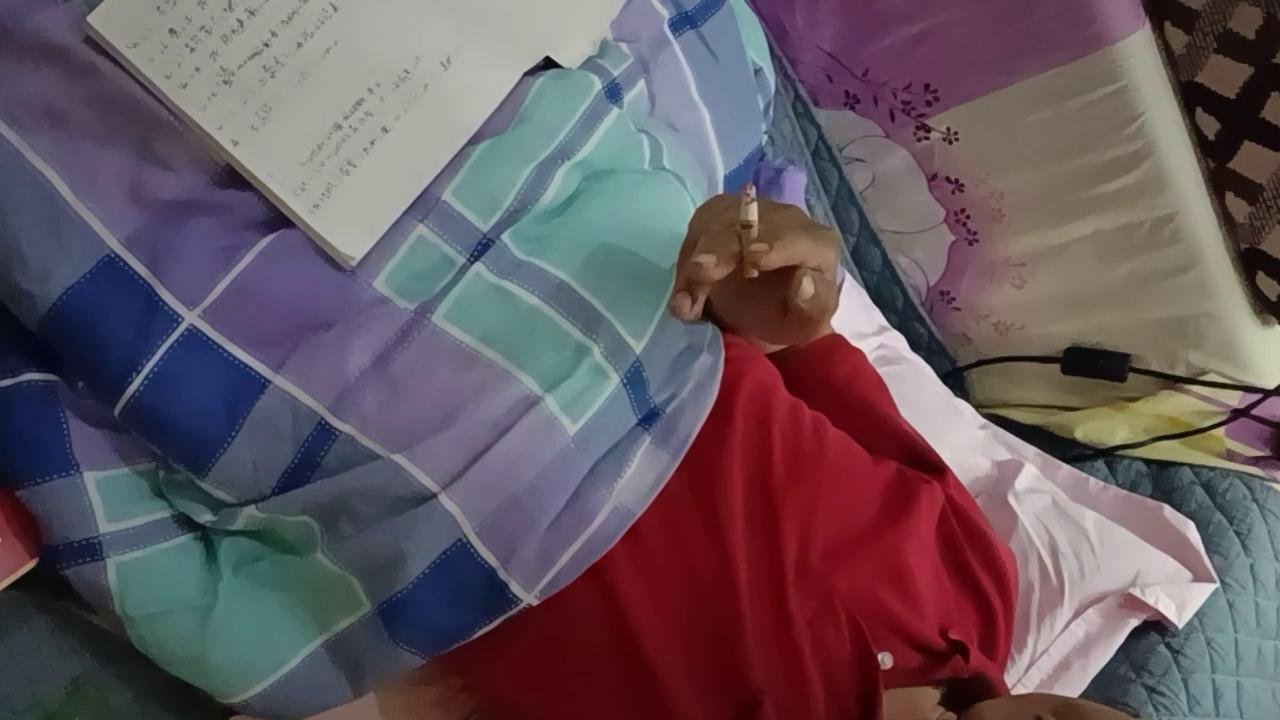smoke: (739, 181, 759, 279)
